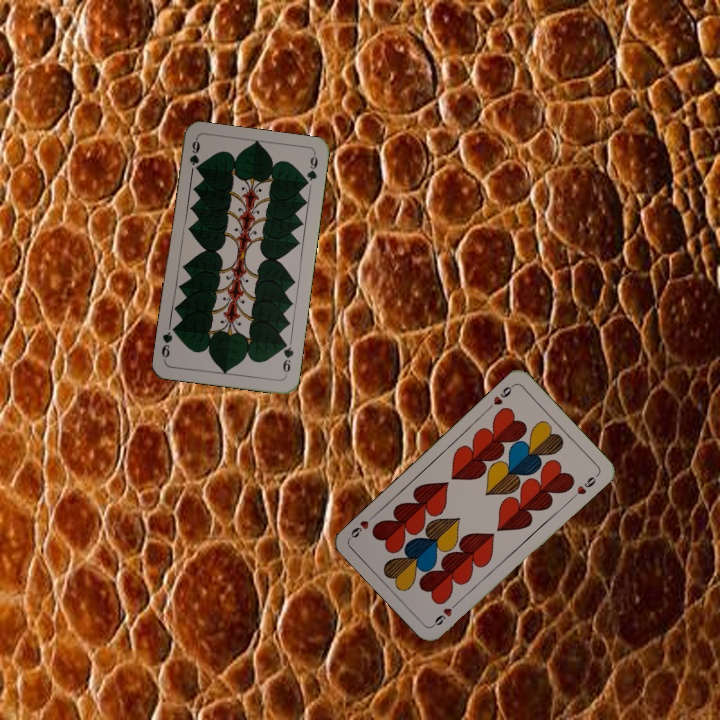G9: (279, 337, 296, 379), (185, 136, 203, 173)
H9: (484, 381, 517, 412), (429, 598, 462, 629)
